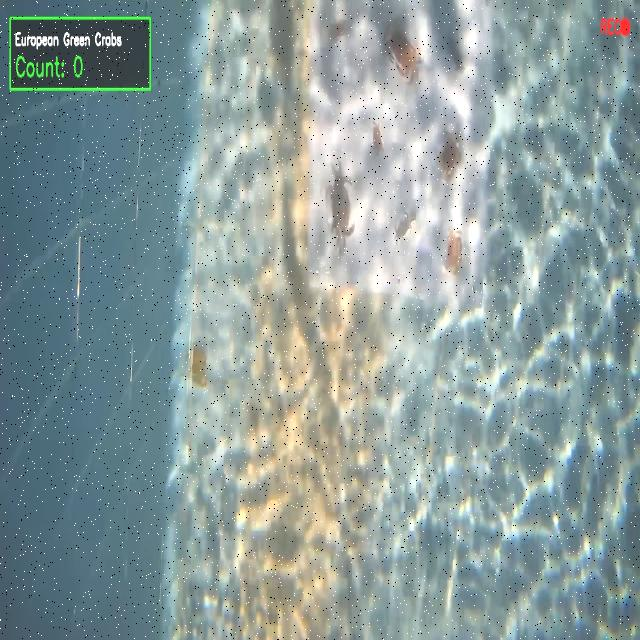European_Green_Crab: (322, 154, 354, 259), (390, 199, 419, 250), (445, 32, 467, 79)
